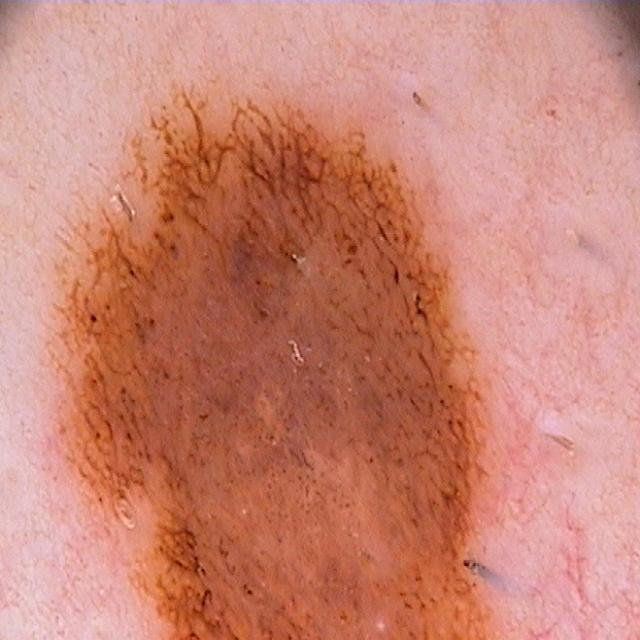Melanoma: (55, 86, 564, 640)
